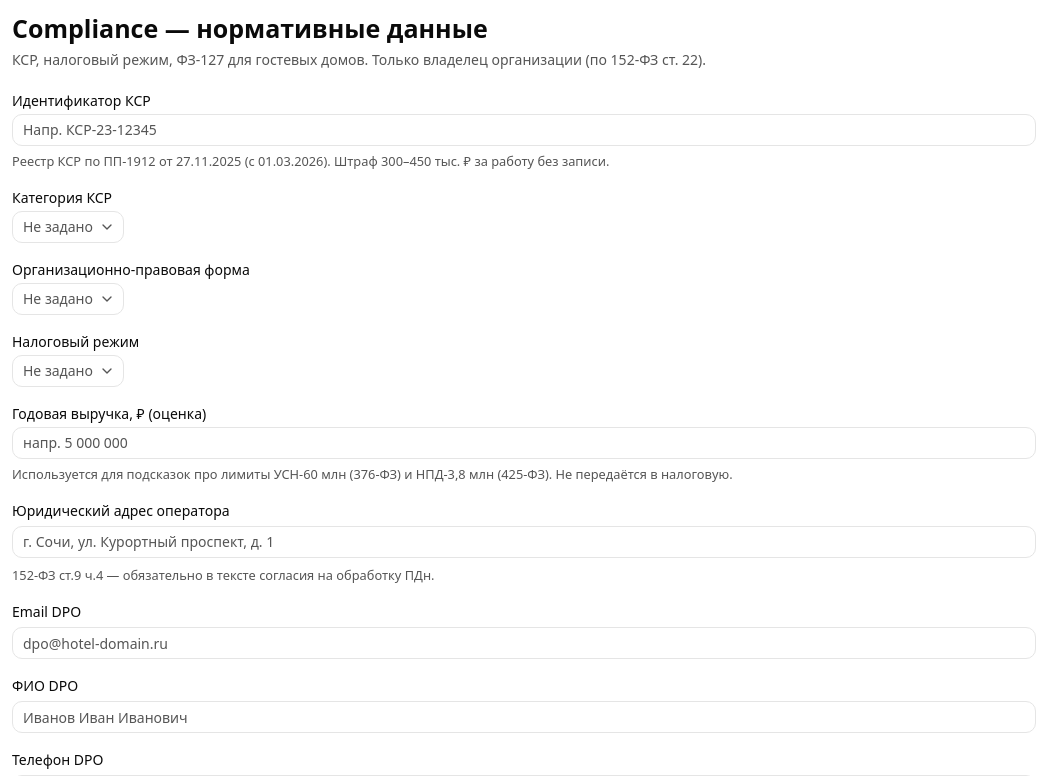
<ComplianceStep> — enum coverage (drift surface) › [E1] all 11 ksrCategory options present in dropdown
Click the dropdown named "Категория КСР": {"x": 68, "y": 227} [12,211,124,243]
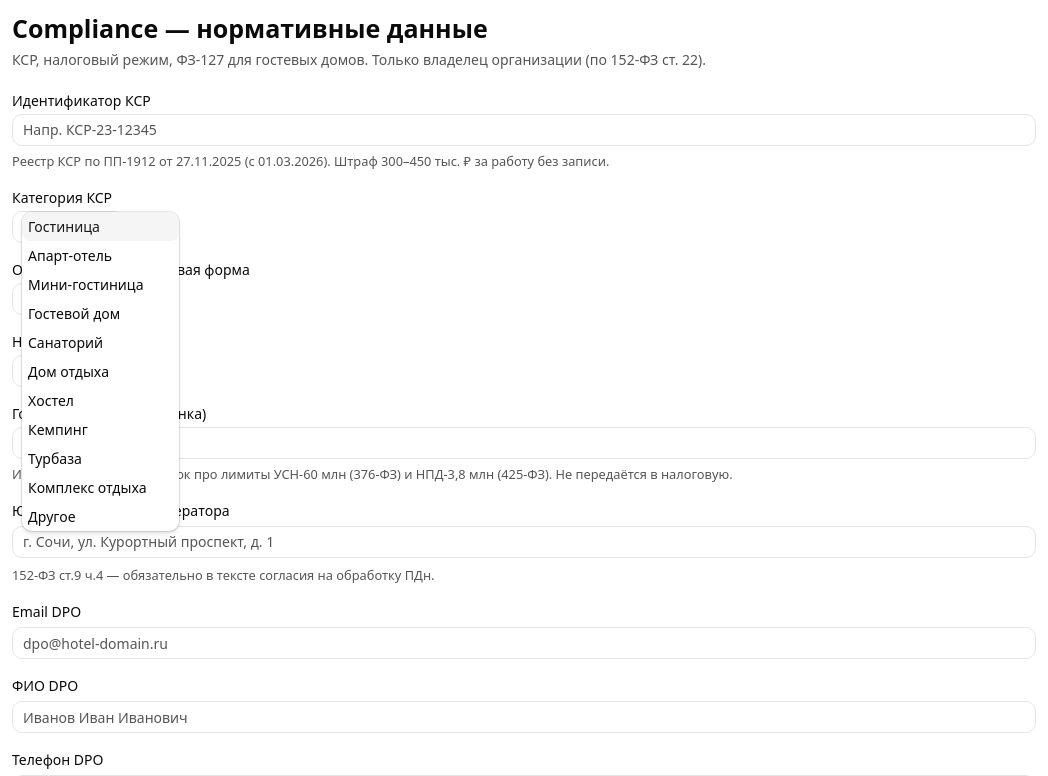
Expected: the number of options is 11
